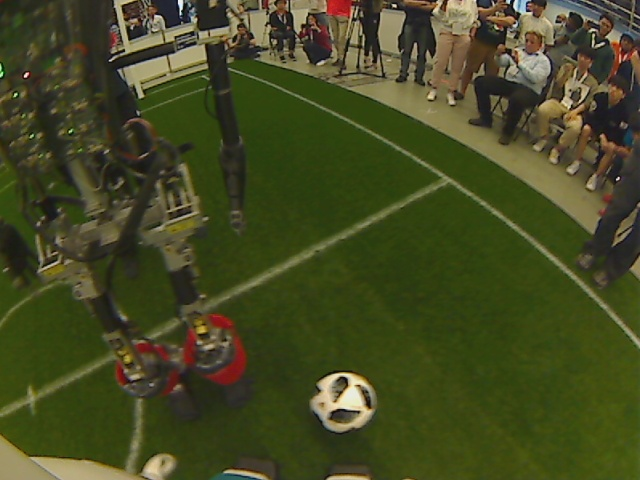ball: (307, 371, 379, 433)
